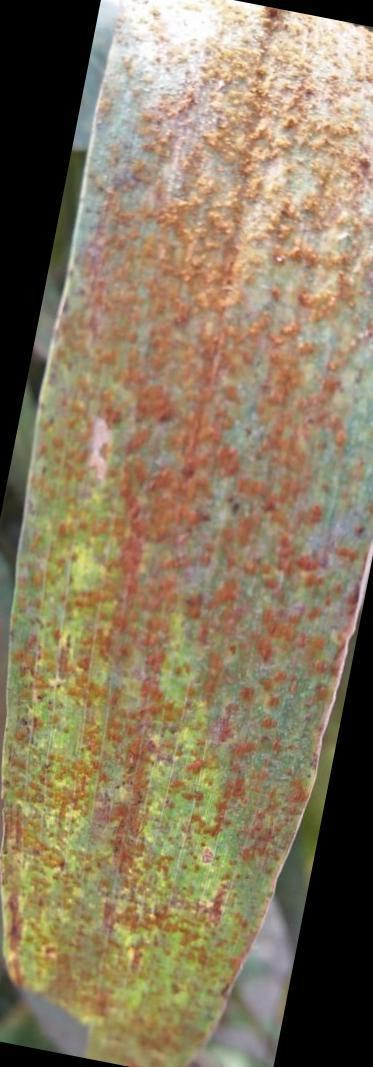Wheat: (108, 26, 365, 441), (12, 662, 245, 986), (112, 456, 349, 655)
